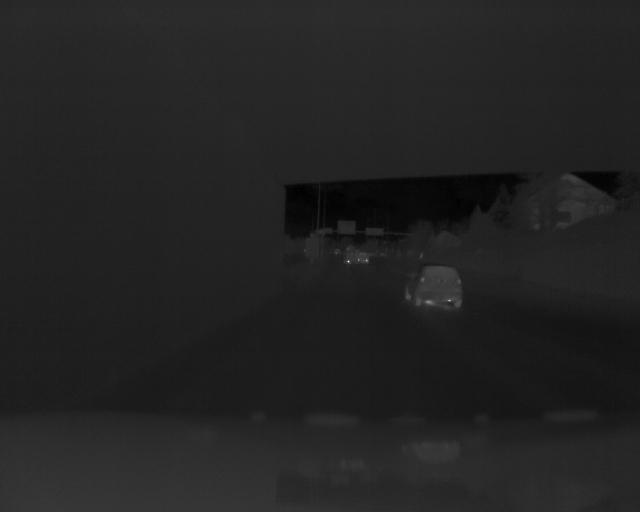car: (403, 262, 466, 314)
